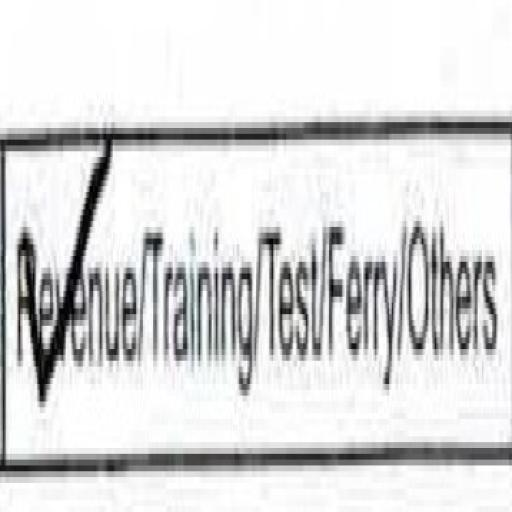check: (0, 22, 146, 512)
